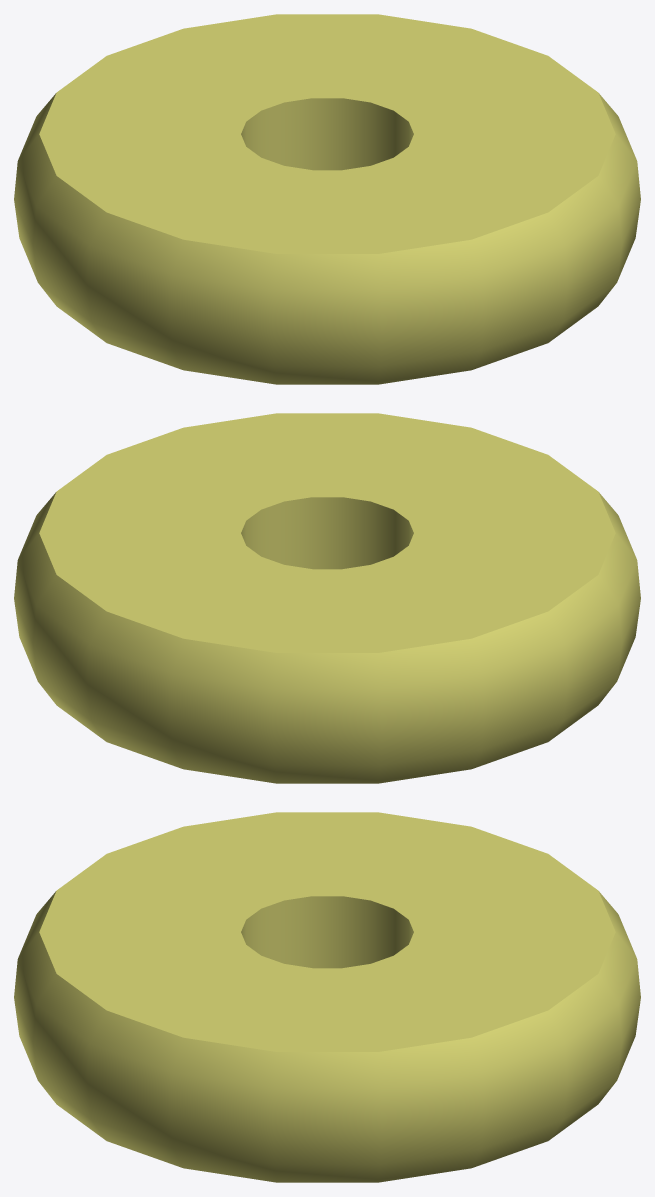
File: ThrowProp_RainbowStackerRing_05.FBX
3 renders of one model, top to bottom at view 1: azimuth 30°, elevation 25°; view 2: azimuth 150°, elevation 25°; view 3: azimuth 270°, elevation 25°, orthographic.
Parts seen in each view (by area): view 1: RainbowStackerRing_05; view 2: RainbowStackerRing_05; view 3: RainbowStackerRing_05.
Boxes of the visible parts, x1=… form: RainbowStackerRing_05: x1=14, y1=14, x2=640, y2=384; RainbowStackerRing_05: x1=14, y1=413, x2=640, y2=783; RainbowStackerRing_05: x1=14, y1=812, x2=640, y2=1182.
Bounding box in the file's own units: 10.71 × 2.5 × 10.88.
1 material, 1 textured.
